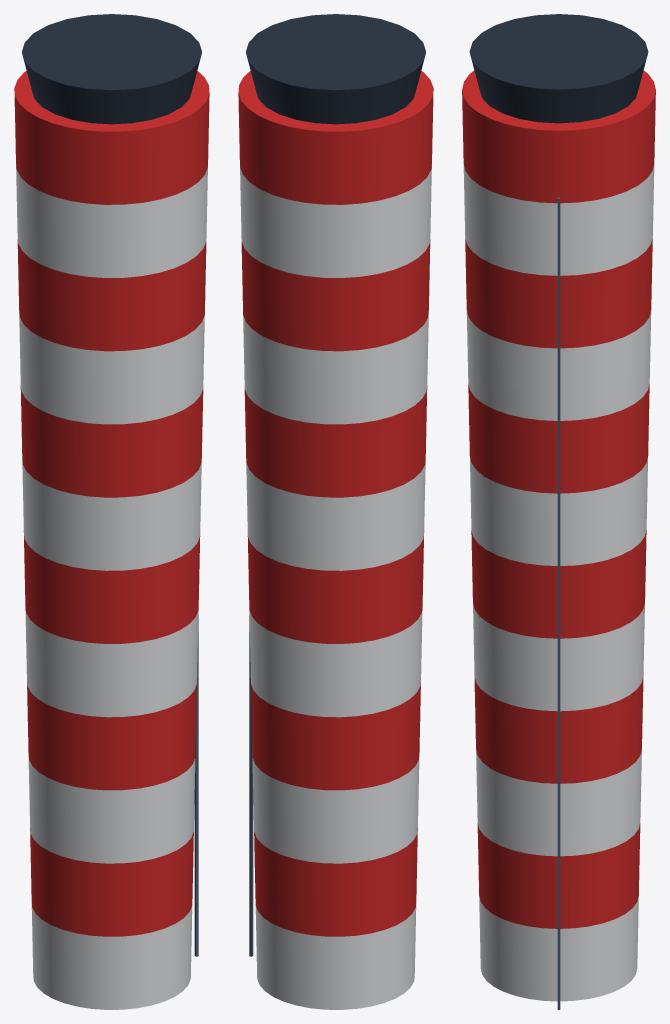
Rendered from chimney.glb.
3 views of the same model, side by side, from view 1: azimuth 30°, elevation 25°; view 2: azimuth 150°, elevation 25°; view 3: azimuth 270°, elevation 25° (orthographic).
Size of the model in its own units: 10.47 by 54.25 by 10.4.
